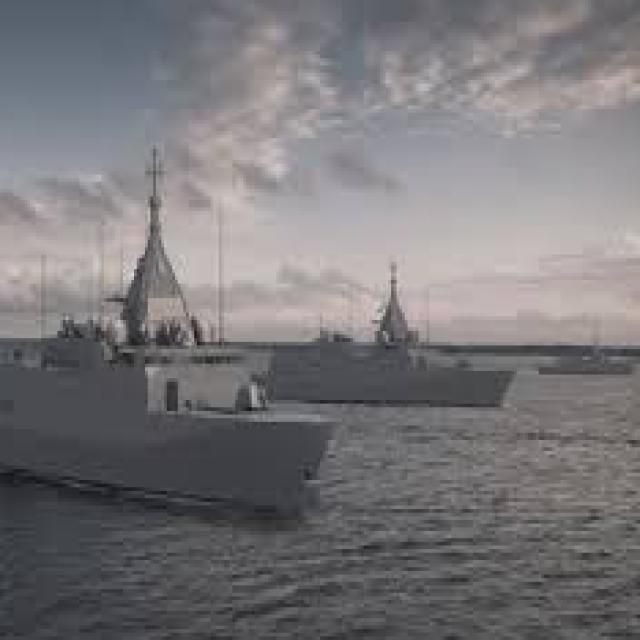navalvessels: (0, 185, 348, 527), (262, 284, 522, 404)
